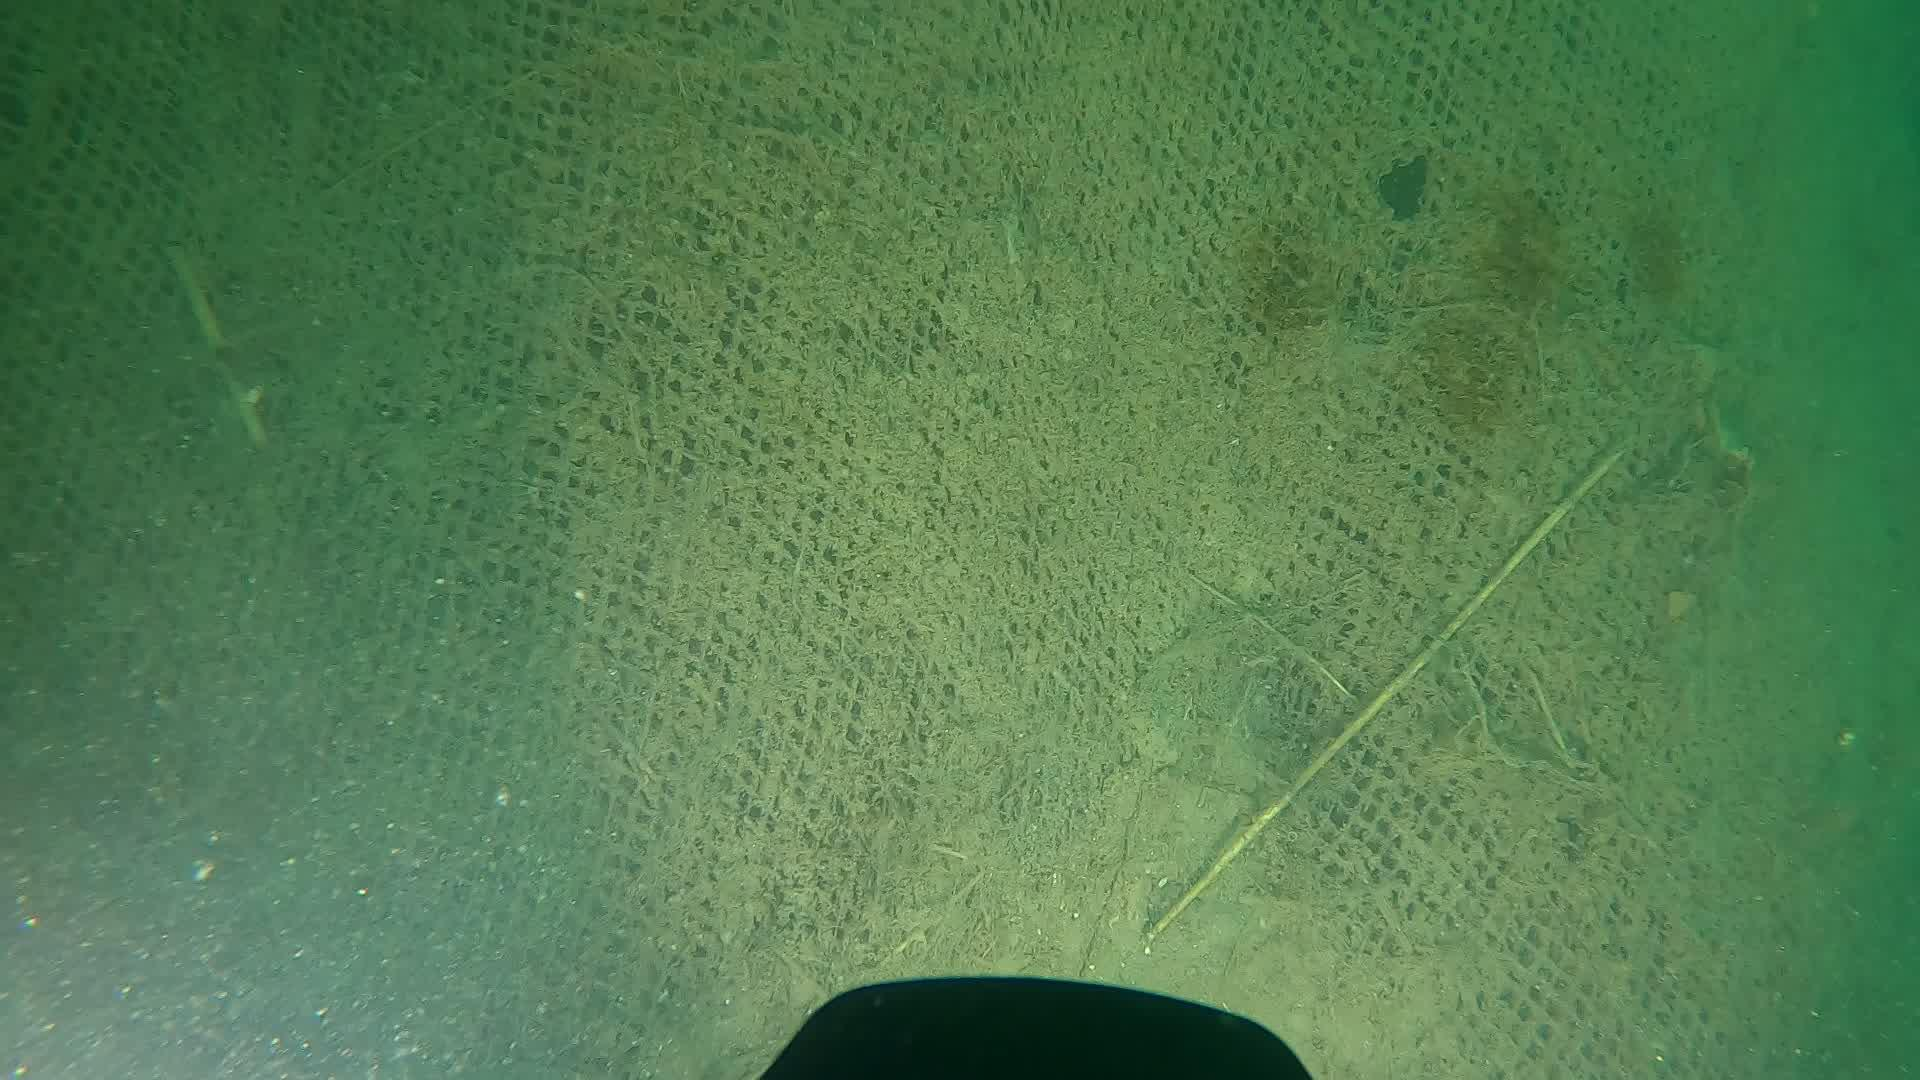fish net: (0, 1, 1722, 1080)
